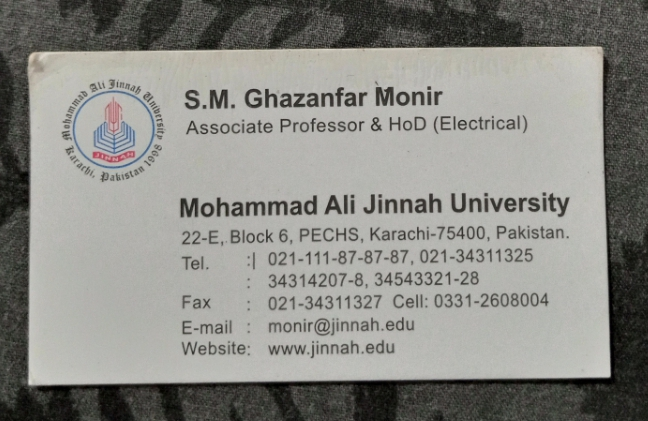alphabetical: (172, 185, 576, 219), (181, 114, 532, 134), (180, 83, 447, 109), (264, 335, 403, 361)
numerical: (266, 247, 410, 268), (417, 244, 538, 266), (431, 289, 555, 309), (264, 293, 386, 313)
